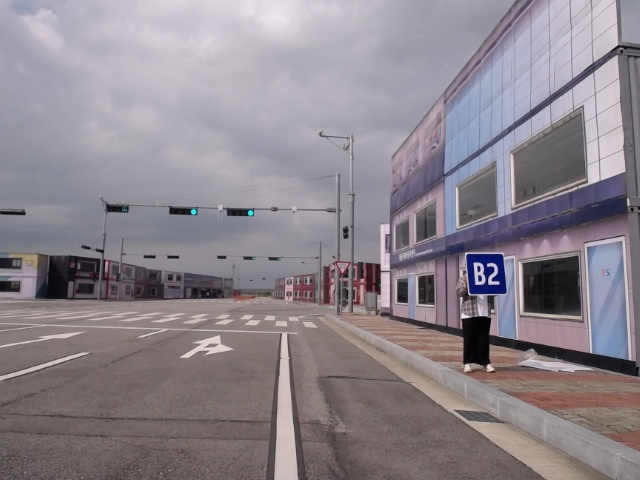delivery_b2: (462, 249, 509, 297)
straight_green_4: (167, 203, 200, 219), (224, 205, 255, 218), (242, 254, 259, 262), (267, 255, 284, 263)
